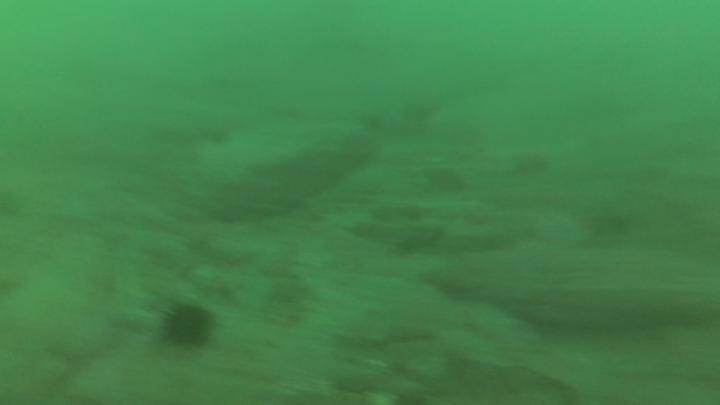echinus: (164, 311, 214, 347)
